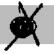not correct: (3, 1, 44, 50)
